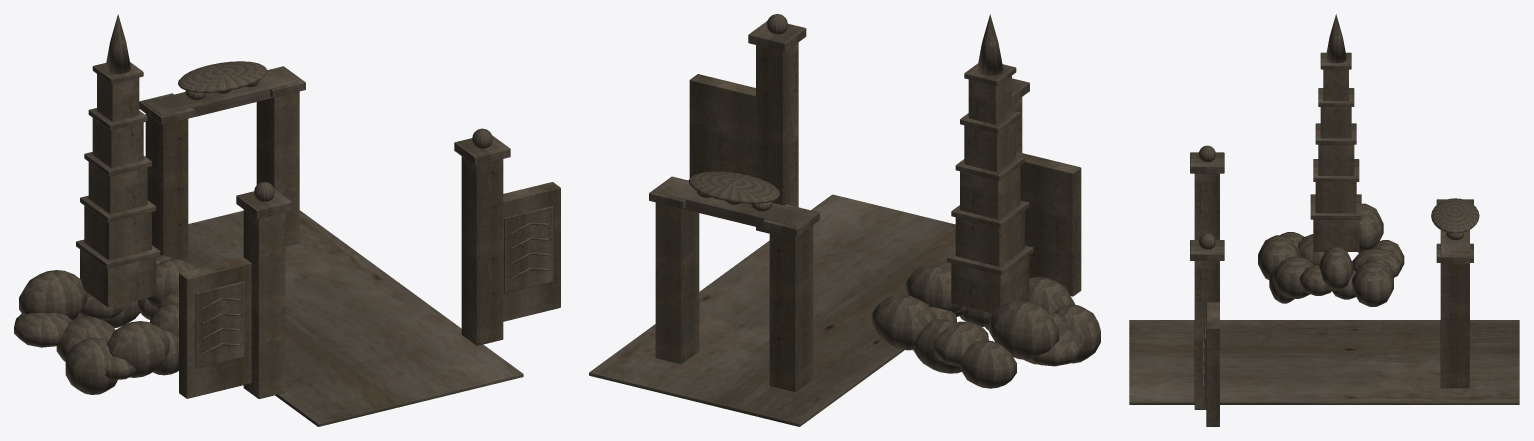
The model's file is thap_but_dai_nghien_lod1.glb.
The picture shows the model from 3 angles, left to right: view 1: azimuth 30°, elevation 25°; view 2: azimuth 150°, elevation 25°; view 3: azimuth 270°, elevation 25°; orthographic projection. The views are drawn at different scales.
Parts seen in each view (by area): view 1: thap_but_dai_nghien.001; view 2: thap_but_dai_nghien.001; view 3: thap_but_dai_nghien.001.
Boxes of the visible parts, left/top/right/bottom form: thap_but_dai_nghien.001: left=14, top=14, right=560, bottom=426; thap_but_dai_nghien.001: left=589, top=14, right=1100, bottom=426; thap_but_dai_nghien.001: left=1129, top=14, right=1519, bottom=426.
Bounding box in the file's own units: 11.1 × 8.02 × 10.
2 materials, 2 textured.
